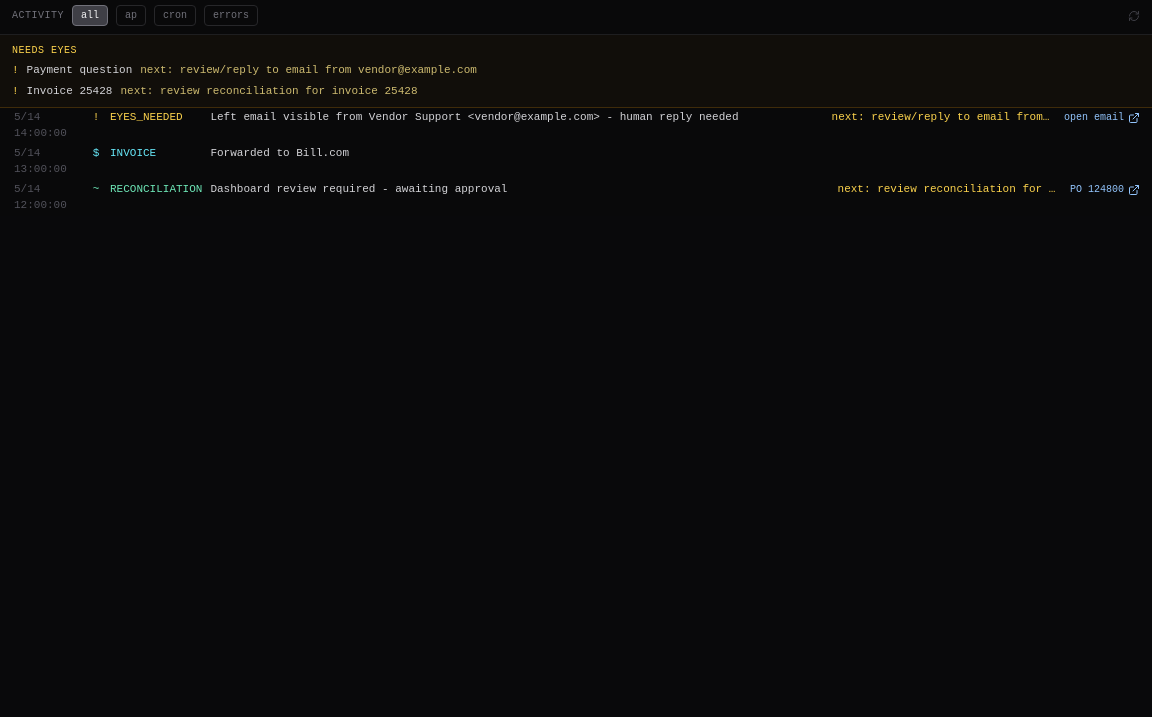
Test: ActivityTerminal UI workflow › shows invoice to PO correlation and teach payload for reconciliation rows
The image size is (1152, 717).
What coordinates should you click on to do the following:
click the text "Dashboard review required - awaiting approval"
I would click on:
 (359, 189)
Its box is [210,183,508,195].
(page scrolled)
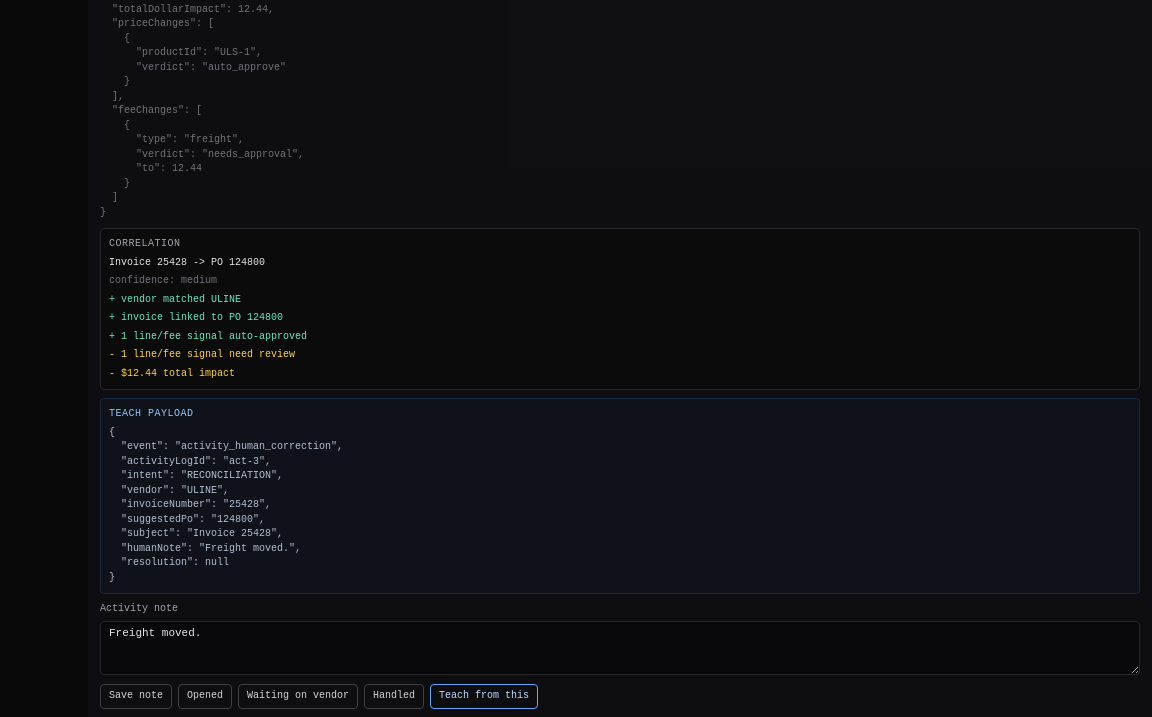
Expected: the text "Correlation" is shown, [109,238,180,249]
Expected: the text "Invoice 25428 -> PO 124800" is shown, [109,257,265,268]
Expected: the text "+ vendor matched ULINE" is shown, [109,294,241,305]
